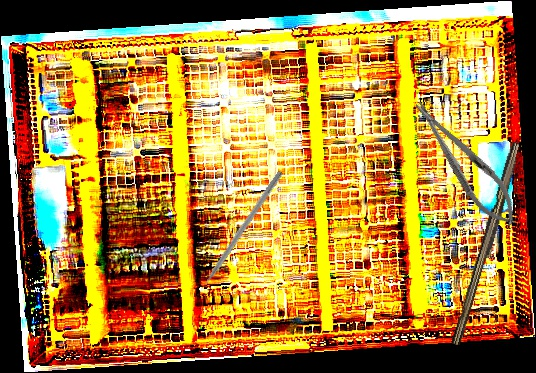Needle Holder: (403, 91, 528, 235)
Pusher: (191, 169, 284, 301)
Scalpel Handle: (450, 140, 525, 348)
